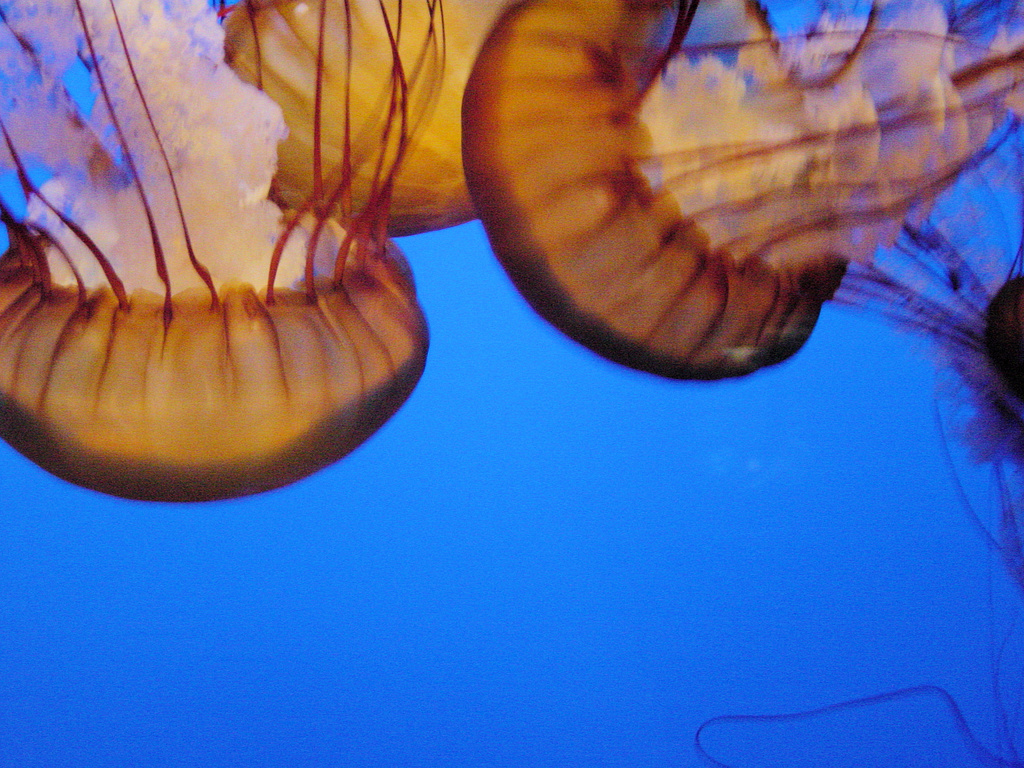Jellyfish: (0, 0, 444, 501), (460, 0, 1023, 383), (206, 0, 529, 239)
